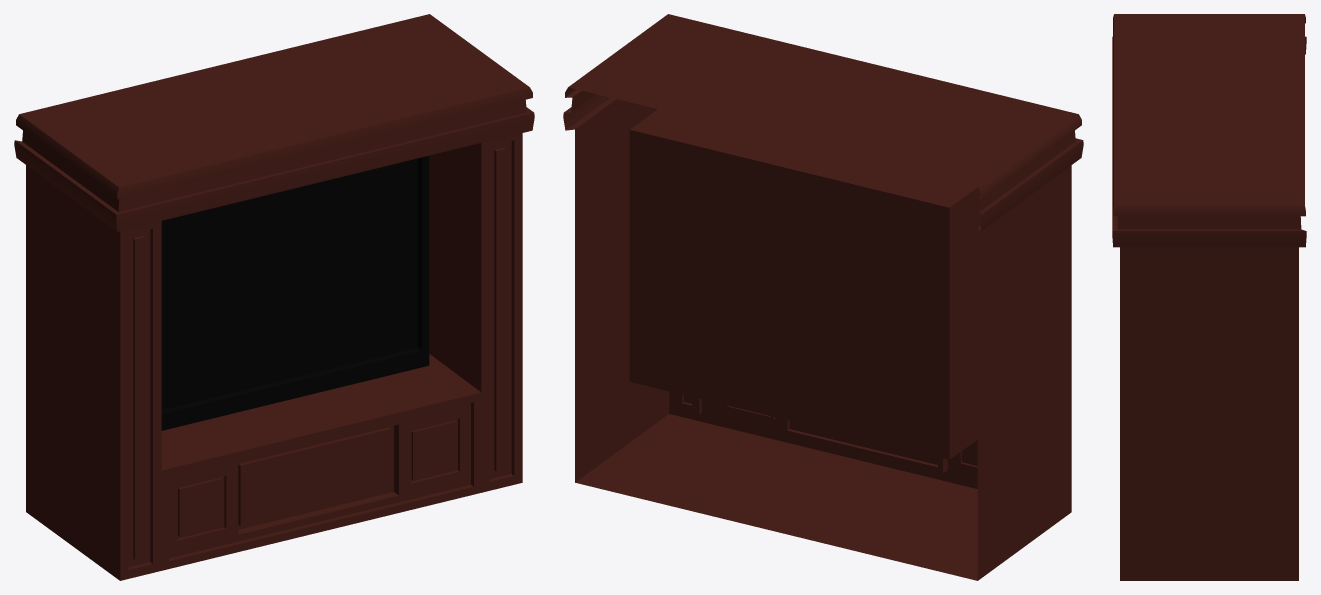
File: Cabinet.fbx
The picture shows the model from 3 angles, left to right: view 1: azimuth 30°, elevation 25°; view 2: azimuth 150°, elevation 25°; view 3: azimuth 270°, elevation 25°; orthographic projection. The views are drawn at different scales.
Visible parts, largest first — view 1: Cabinet; view 2: Cabinet; view 3: Cabinet.
Boxes of the visible parts, <box> form: Cabinet: <box>14,14,534,580</box>; Cabinet: <box>563,14,1083,580</box>; Cabinet: <box>1112,14,1306,580</box>.
Size of the model in its own units: 1011 by 917 by 427.
